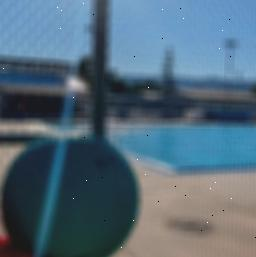algae: (0, 132, 143, 257)
